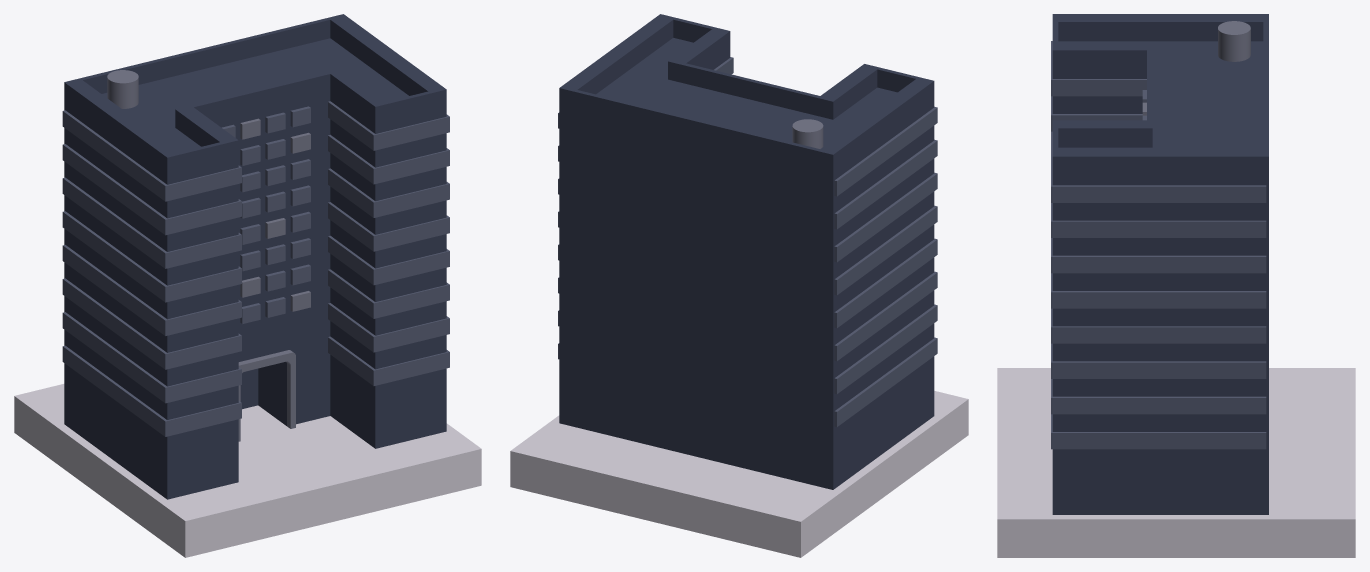
Rendered from concrete_low_building.fbx.
The picture shows the model from 3 angles, left to right: view 1: azimuth 30°, elevation 25°; view 2: azimuth 150°, elevation 25°; view 3: azimuth 270°, elevation 25°; orthographic projection. The views are drawn at different scales.
Parts seen in each view (by area): view 1: building base, Cube.056, building windows, door frame, water tower; view 2: building base, Cube.056, water tower; view 3: building base, Cube.056, water tower.
Part boxes in pixels (bbox=[...]): building base: bbox=[62, 14, 449, 499]; Cube.056: bbox=[14, 384, 481, 557]; building windows: bbox=[222, 106, 310, 323]; door frame: bbox=[238, 350, 295, 441]; water tower: bbox=[107, 70, 138, 108]; building base: bbox=[558, 14, 937, 489]; Cube.056: bbox=[510, 391, 968, 557]; water tower: bbox=[792, 119, 823, 148]; building base: bbox=[1051, 14, 1268, 514]; Cube.056: bbox=[997, 368, 1355, 557]; water tower: bbox=[1218, 21, 1250, 61].
Bounding box in the file's own units: 205 × 255 × 205.
